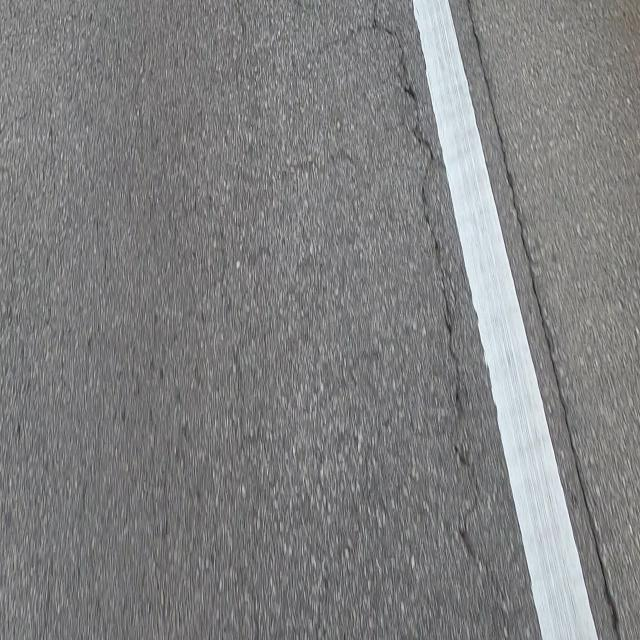Retak-Memanjang: (464, 0, 621, 640), (369, 18, 463, 397)
